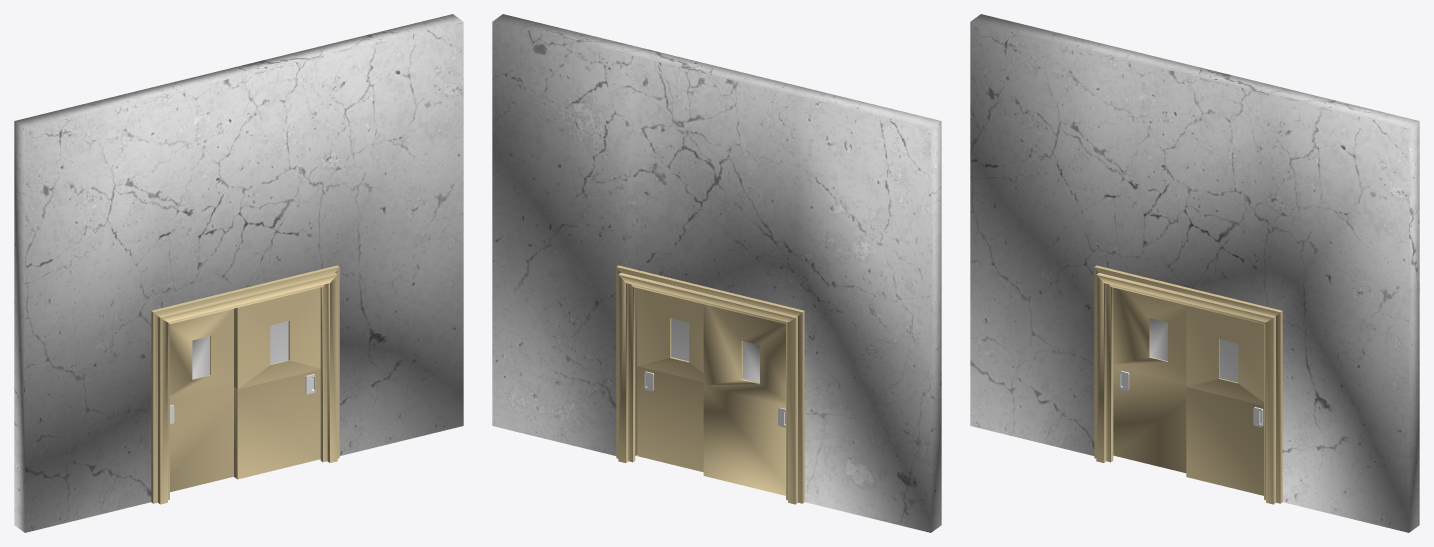
File: portas 2.fbx
3 renders of one model, left to right at view 1: azimuth 30°, elevation 25°; view 2: azimuth 150°, elevation 25°; view 3: azimuth 330°, elevation 25°, orthographic.
Visible parts, largest first — view 1: parede com janela.004, parede com janela.001; view 2: parede com janela.004, parede com janela.001; view 3: parede com janela.004, parede com janela.001.
Part boxes in pixels (bbox=[...]): parede com janela.004: bbox=[14, 14, 463, 532]; parede com janela.001: bbox=[170, 308, 233, 492]; parede com janela.004: bbox=[492, 14, 941, 532]; parede com janela.001: bbox=[703, 304, 785, 495]; parede com janela.004: bbox=[970, 14, 1419, 532]; parede com janela.001: bbox=[1113, 287, 1186, 473].
Bounding box in the file's own units: 454 × 400 × 36.21.
5 materials, 1 textured.
